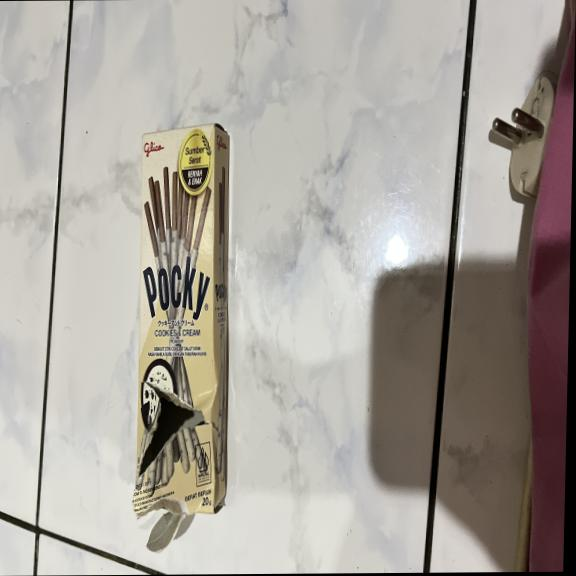Kertas: (131, 120, 226, 516)
